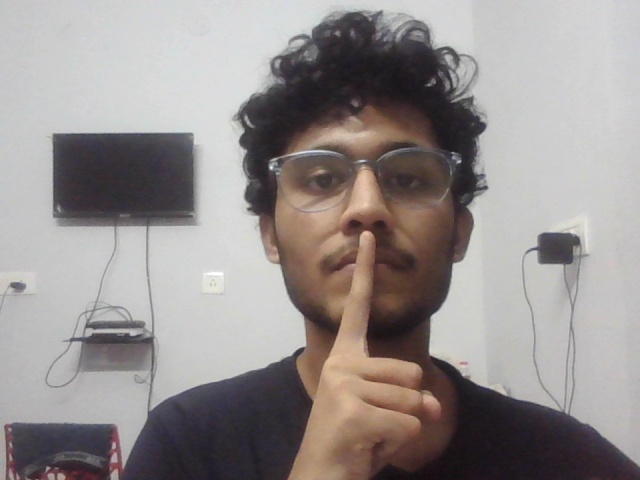Quiet: (272, 207, 487, 480)
